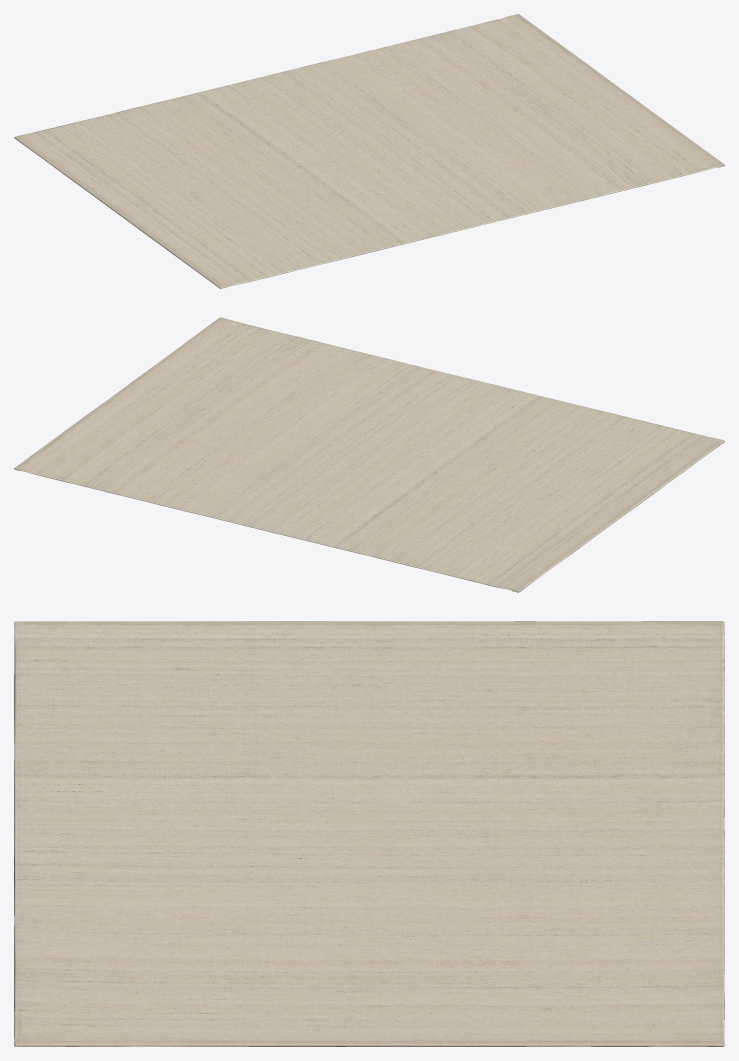
File: tidtabell_dywan_tkany_na_pasko_30555282.glb
3 views of the same model, one above another, from view 1: azimuth 30°, elevation 25°; view 2: azimuth 150°, elevation 25°; view 3: azimuth 270°, elevation 25° (orthographic). The views are drawn at different scales.
Parts seen in each view (by area): view 1: tidtabell_dywan_tkany_na_pasko_30555282; view 2: tidtabell_dywan_tkany_na_pasko_30555282; view 3: tidtabell_dywan_tkany_na_pasko_30555282.
Part boxes in pixels (<box>): tidtabell_dywan_tkany_na_pasko_30555282: <box>14,14,724,288</box>; tidtabell_dywan_tkany_na_pasko_30555282: <box>14,317,724,592</box>; tidtabell_dywan_tkany_na_pasko_30555282: <box>14,621,724,1046</box>.
Size of the model in its own units: 2.4 by 0.00765 by 1.7.
1 material, 1 textured.
